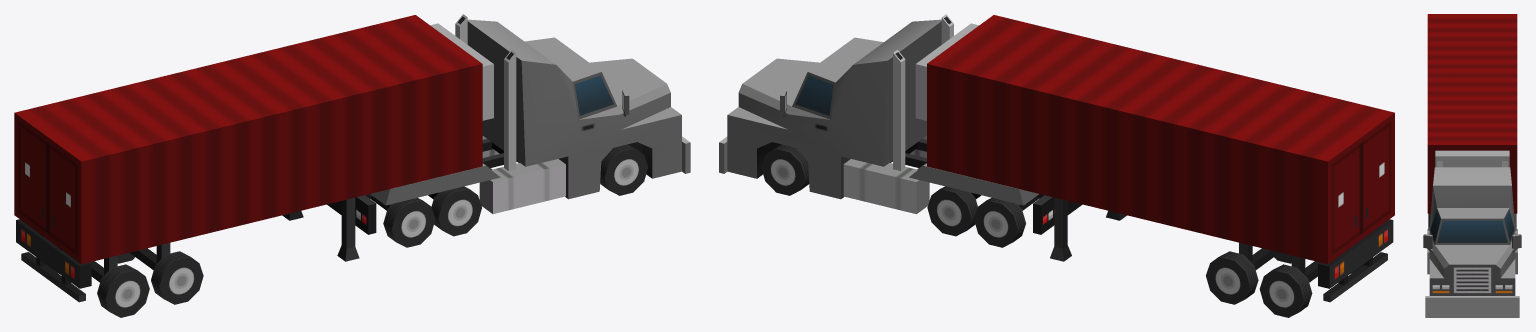
The model's file is Truck_019.glb.
3 views of the same model, side by side, from view 1: azimuth 30°, elevation 25°; view 2: azimuth 150°, elevation 25°; view 3: azimuth 270°, elevation 25° (orthographic). The views are drawn at different scales.
Parts seen in each view (by area): view 1: Truck_019, wheel_7_Truck_019_Wheel_4R, wheel_9_Truck_019_Wheel_5R, wheel_5_Truck_019_Wheel_3R, wheel_3_Truck_019_Wheel_2R, wheel_1_Truck_019_Wheel_1R; view 2: Truck_019, wheel_8_Truck_019_Wheel_5L, wheel_6_Truck_019_Wheel_4L, wheel_4_Truck_019_Wheel_3L, wheel_2_Truck_019_Wheel_2L, wheel_0_Truck_019_Wheel_1L; view 3: Truck_019.
Boxes of the visible parts, x1,y1,x2,y2 form: Truck_019: [14, 14, 690, 302]; wheel_7_Truck_019_Wheel_4R: [151, 251, 203, 304]; wheel_9_Truck_019_Wheel_5R: [97, 264, 149, 317]; wheel_5_Truck_019_Wheel_3R: [383, 197, 435, 247]; wheel_3_Truck_019_Wheel_2R: [431, 186, 481, 236]; wheel_1_Truck_019_Wheel_1R: [600, 144, 648, 195]; Truck_019: [719, 14, 1394, 302]; wheel_8_Truck_019_Wheel_5L: [1259, 264, 1312, 317]; wheel_6_Truck_019_Wheel_4L: [1206, 251, 1258, 304]; wheel_4_Truck_019_Wheel_3L: [974, 198, 1025, 247]; wheel_2_Truck_019_Wheel_2L: [927, 186, 977, 236]; wheel_0_Truck_019_Wheel_1L: [761, 144, 809, 195]; Truck_019: [1423, 14, 1521, 317].
Bounding box in the file's own units: 10.06 × 2.64 × 2.1.
2 materials, 2 textured.
